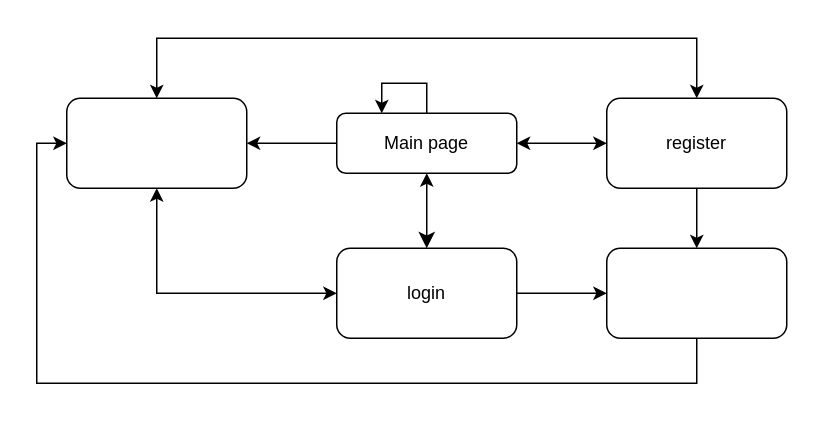
Image size: 813x422. Some labels were removed from this diagram. The shapes that lost their labels are listed below. From the top down, each one's centre as x and y in pixels, then its label:
At [156,142]: "Pool".
At [696,292]: "Profile page".
